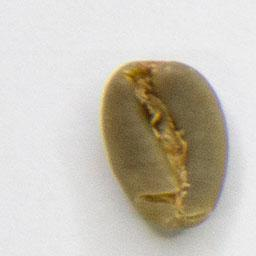premium: (97, 55, 235, 234)
